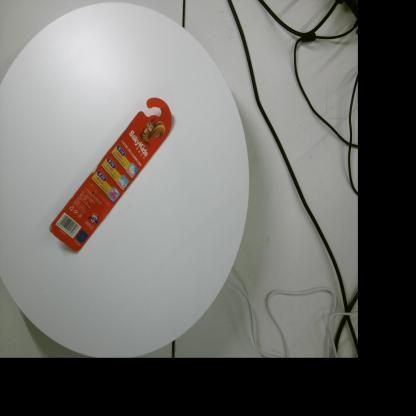Personal Hygiene: (48, 98, 172, 252)
